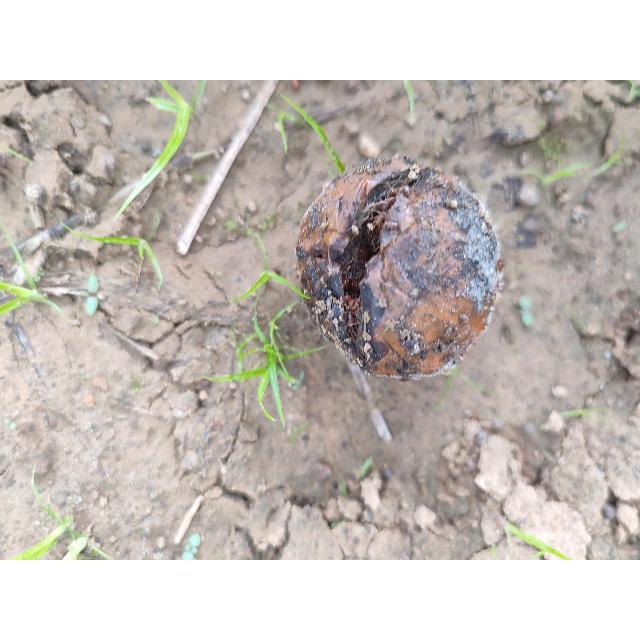damaged: (293, 158, 504, 381)
